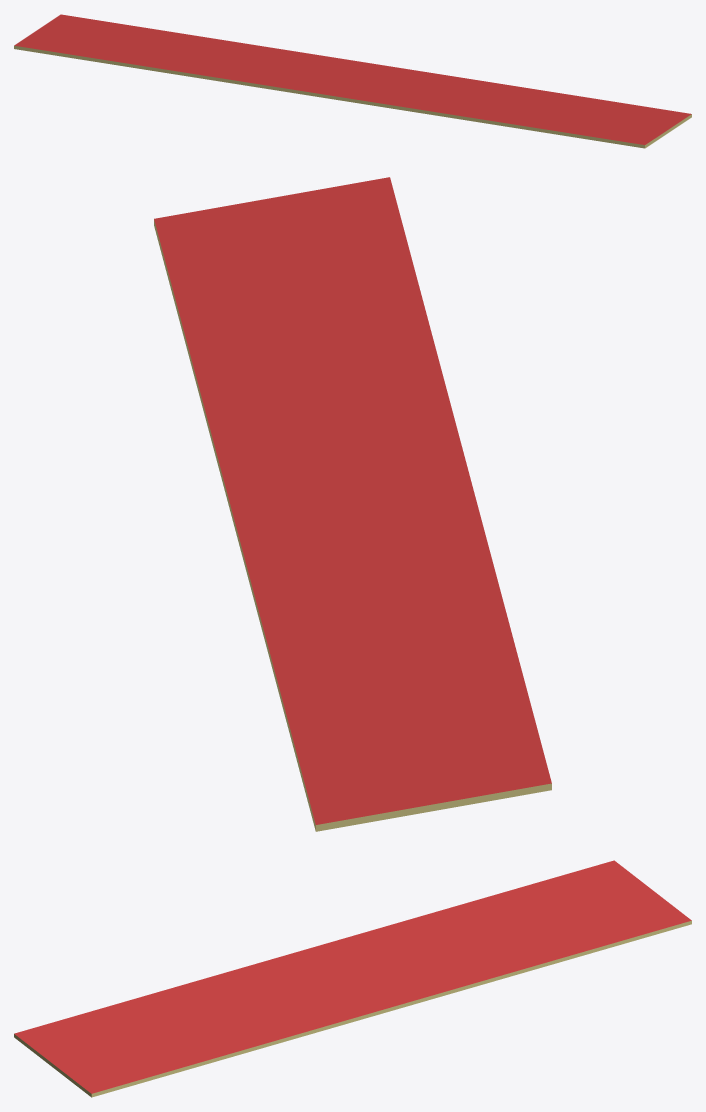
3 renders of one model, top to bottom at view 1: azimuth 30°, elevation 25°; view 2: azimuth 150°, elevation 25°; view 3: azimuth 270°, elevation 25°, orthographic. The views are drawn at different scales.
Bounding box in the file's own units: 13.59 × 16.67 × 0.985.
